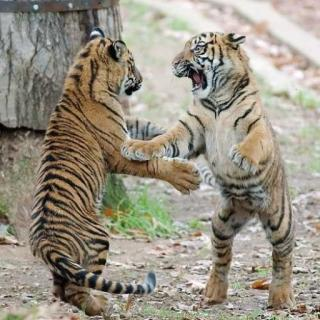Tiger: (158, 9, 300, 300), (31, 14, 156, 311)
